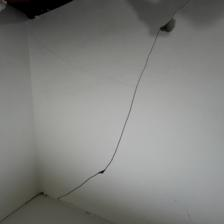Medium: (54, 73, 150, 195)
